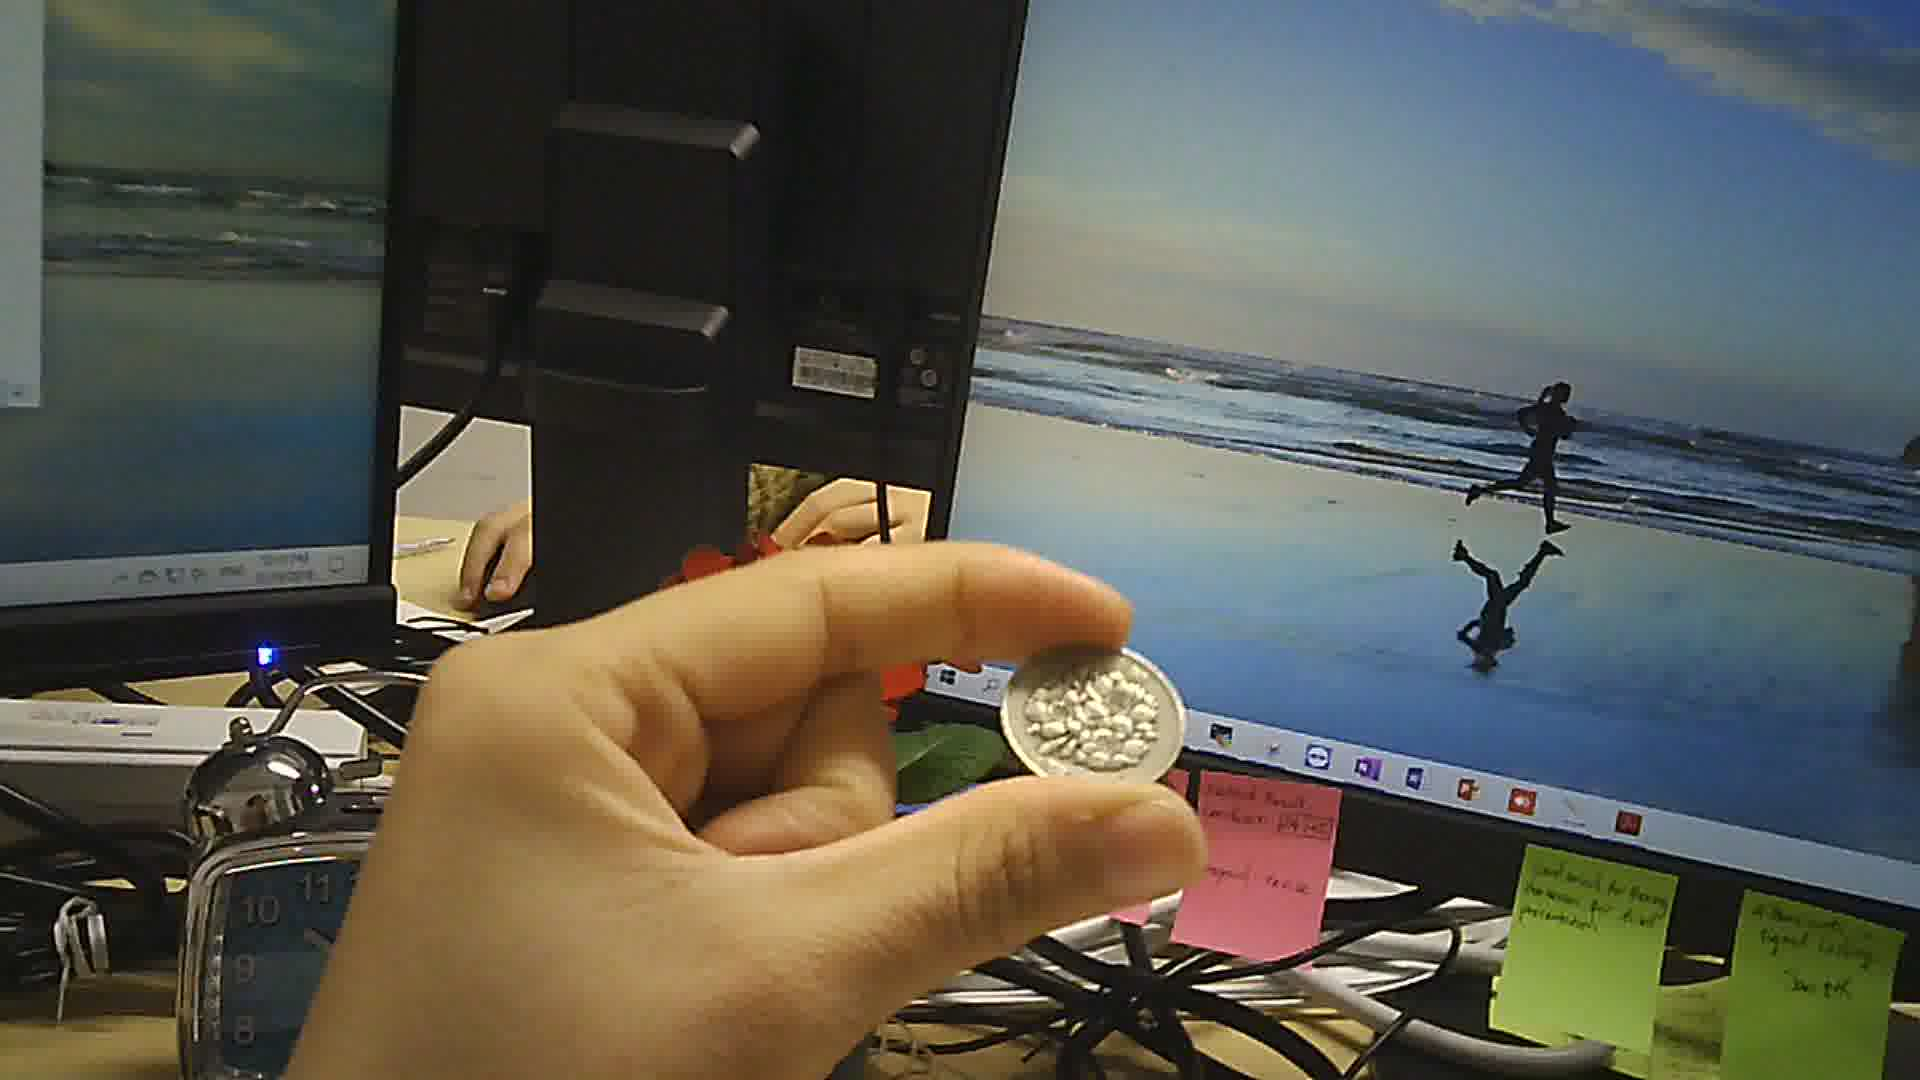100 Yen: (996, 634, 1188, 787)
